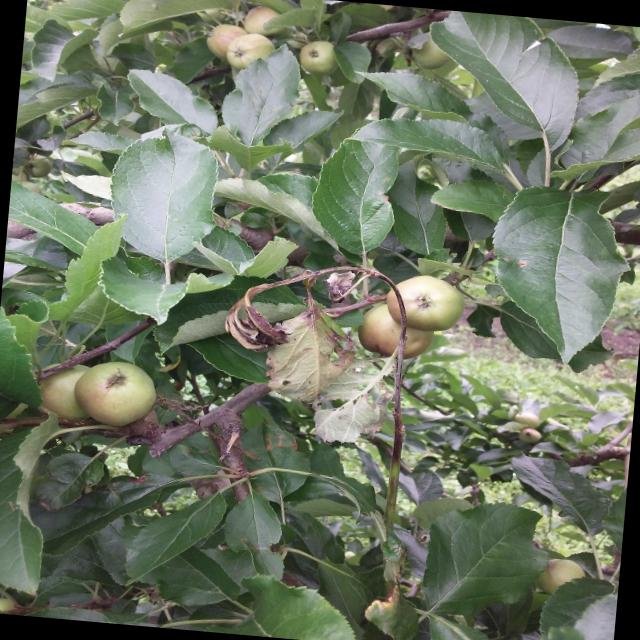-FireBlight-: (224, 269, 408, 444)
